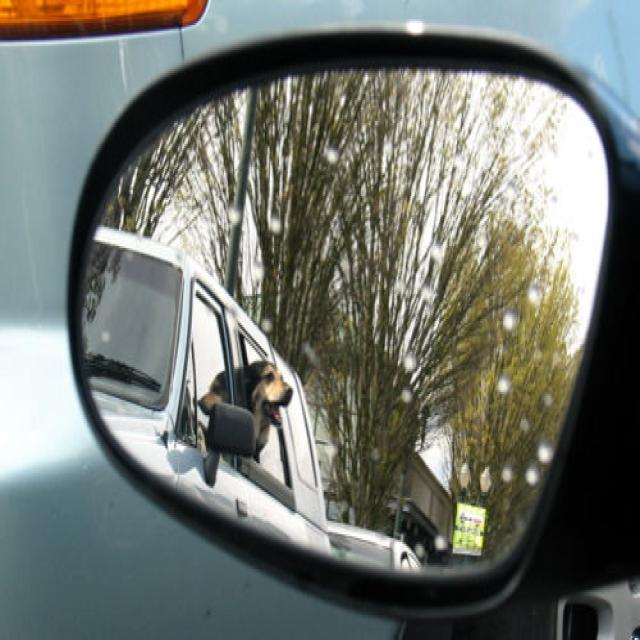Vehicle: (1, 0, 640, 633), (86, 228, 332, 548)
